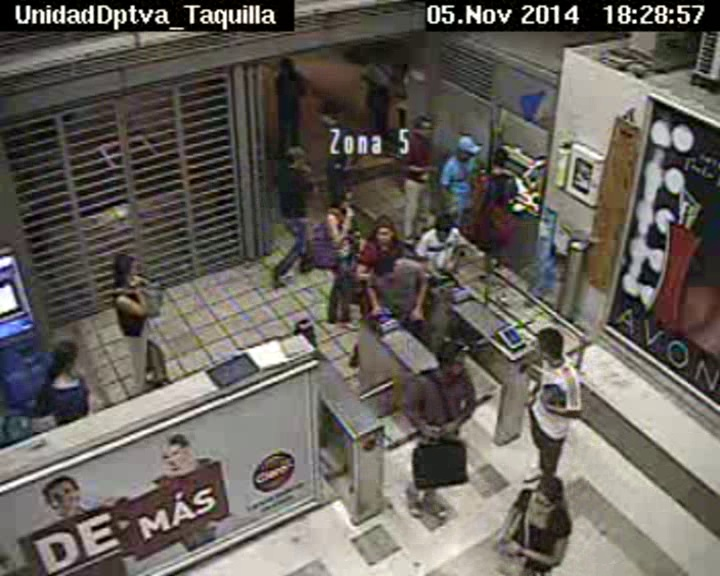person: (435, 341, 469, 380), (534, 326, 568, 363), (532, 476, 565, 514), (109, 249, 139, 282), (48, 339, 78, 371), (368, 215, 399, 245), (454, 133, 480, 163), (329, 184, 356, 212), (282, 144, 309, 172), (371, 259, 396, 286), (431, 213, 455, 240), (412, 112, 435, 140), (489, 147, 511, 170), (275, 57, 296, 79), (371, 43, 393, 64), (333, 110, 349, 126)
